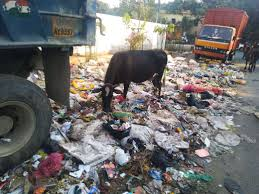garbage: (56, 111, 240, 194), (168, 61, 242, 144), (131, 88, 153, 163), (74, 57, 99, 96)
